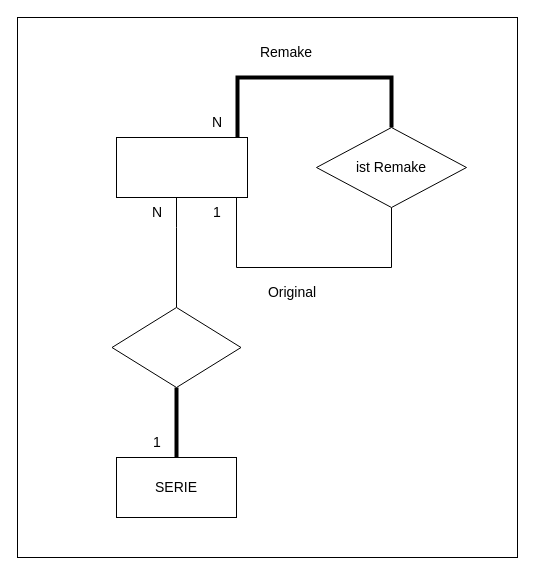
Some shapes in this 535 by 575 pixel diagram are drawn without their labels. The shapes that lost their labels are listed below. From the top down, each one's box as (x1, y1, x2, y2) in pixels, then its label:
(116, 136, 248, 198): FILM
(111, 306, 241, 388): gehört zu
